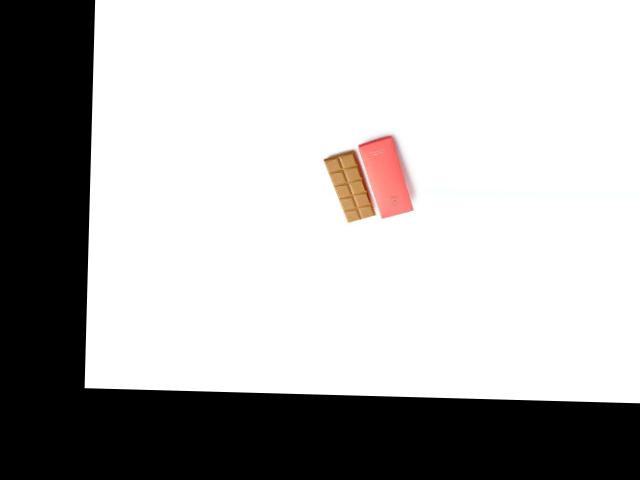chocolate: (322, 146, 381, 224)
